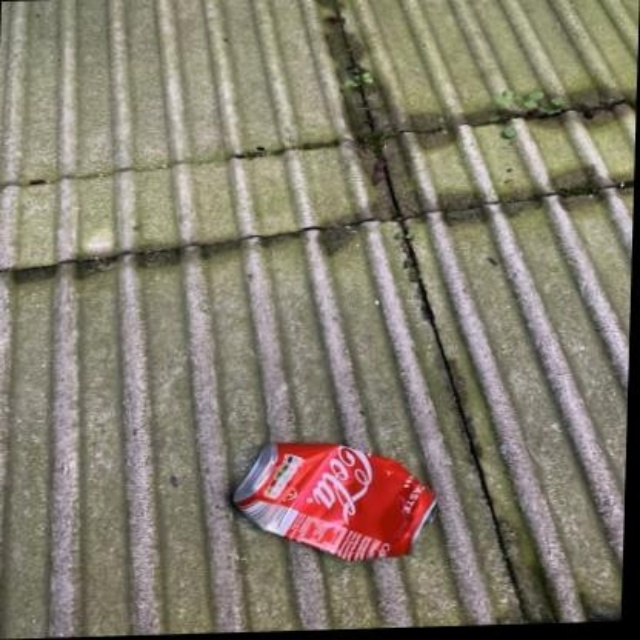trash: (234, 443, 435, 560)
